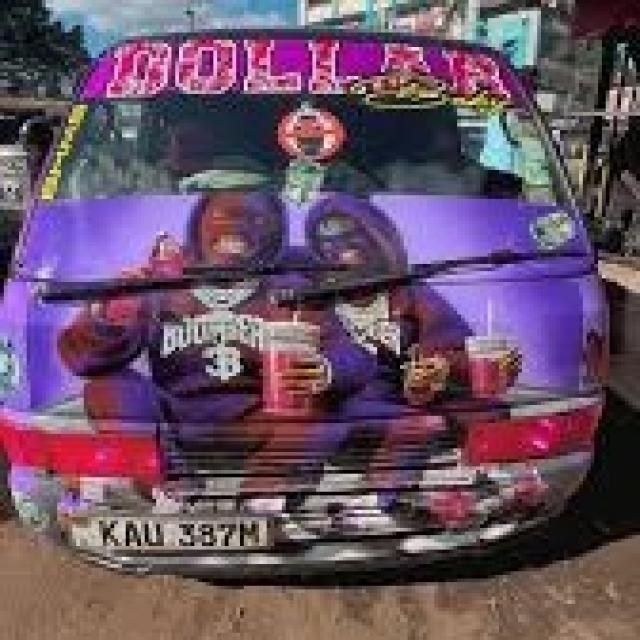matatu: (5, 2, 640, 594)
